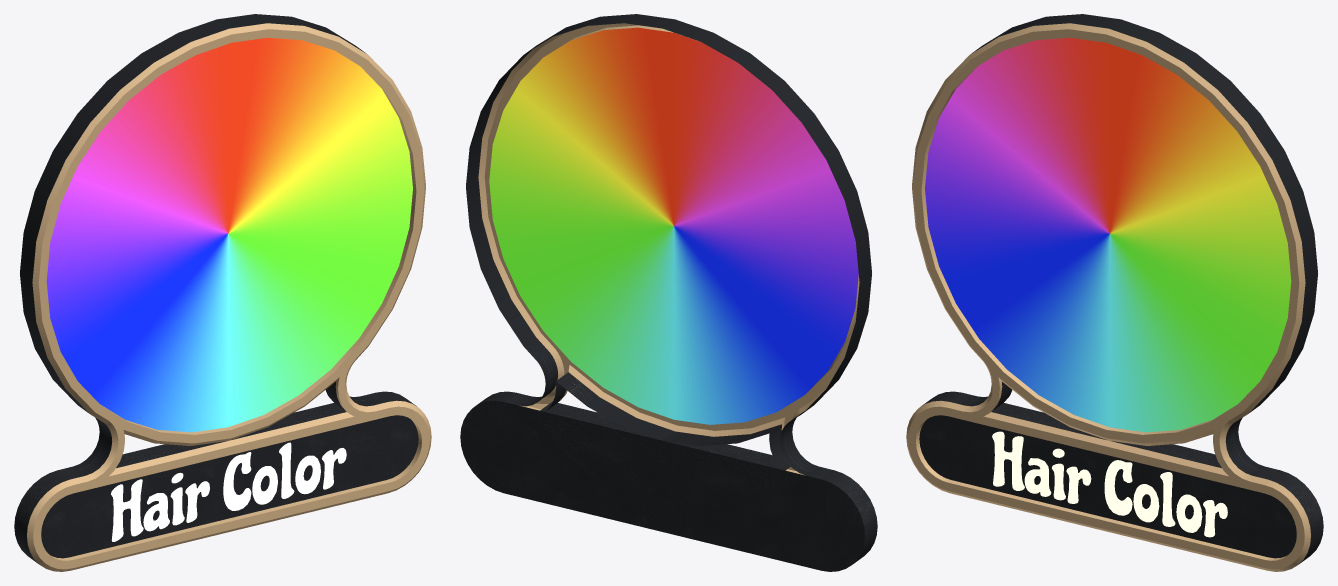
File: shopZoneColorPicker.gltf
3 renders of one model, left to right at view 1: azimuth 30°, elevation 25°; view 2: azimuth 150°, elevation 25°; view 3: azimuth 330°, elevation 25°, orthographic.
Parts seen in each view (by area): view 1: ColorPickerHair.Wheel, ColorPickerHair, ColorPickerHairText; view 2: ColorPickerHair.Wheel, ColorPickerHair; view 3: ColorPickerHair.Wheel, ColorPickerHair, ColorPickerHairText.
Part boxes in pixels (x1,y1,x2,y2): ColorPickerHair.Wheel: (46, 37, 412, 432); ColorPickerHair: (14, 14, 431, 571); ColorPickerHairText: (111, 442, 346, 541); ColorPickerHair.Wheel: (489, 27, 858, 424); ColorPickerHair: (460, 14, 877, 571); ColorPickerHair.Wheel: (925, 37, 1291, 432); ColorPickerHair: (906, 14, 1323, 571); ColorPickerHairText: (992, 431, 1227, 537).
Size of what is drawn, in the model's own units: 1.66 by 1.98 by 0.106.
4 materials, 2 textured.
